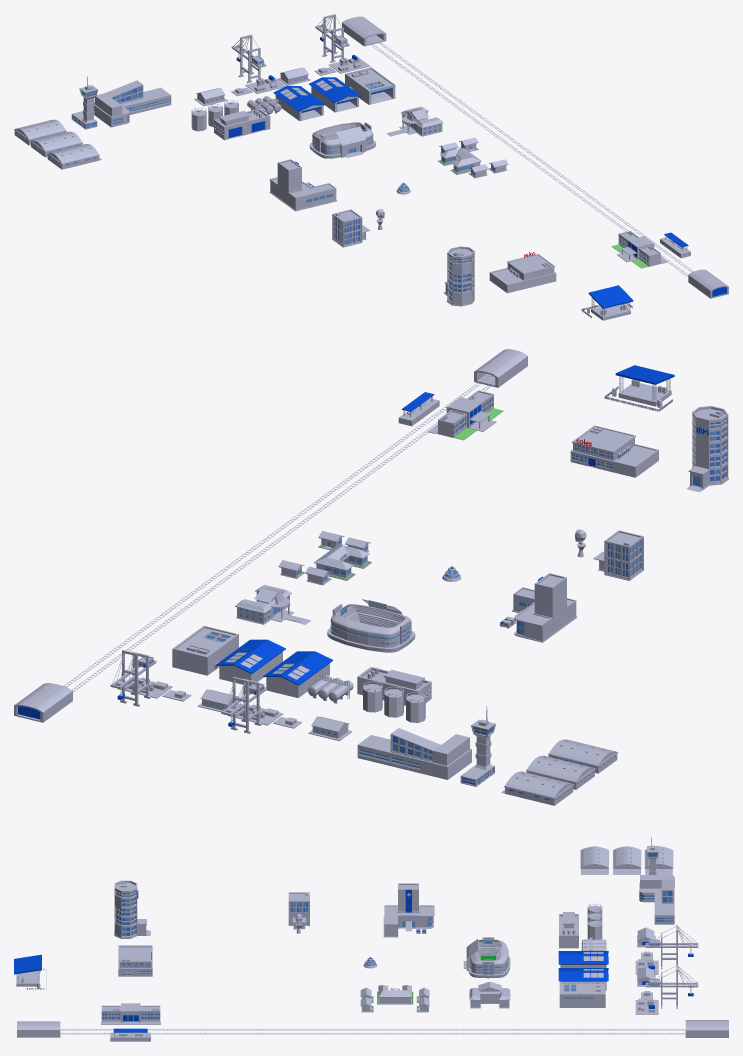
The model's file is MainBuildings.glb.
The picture shows the model from 3 angles, top to bottom: view 1: azimuth 30°, elevation 25°; view 2: azimuth 150°, elevation 25°; view 3: azimuth 270°, elevation 25°; orthographic projection. The views are drawn at different scales.
Parts seen in each view (by area): view 1: Airport, Factory.001, hospital.003, Stadion, Coles, harbour.004, harbour, Railway Station, IBM.002, NDIS, warehouse.2, warehouse.003 (+11 smaller); view 2: Airport, Factory.001, Stadion, hospital.003, Coles, IBM.002, Railway Station, harbour.004, NDIS, harbour, warehouse.2, Office.015 (+11 smaller); view 3: hospital.003, Railway Station, Airport, Stadion, Factory.001, IBM.002, harbour, harbour.004, NDIS, warehouse.2, Railway Track.001, Railway Track.002 (+11 smaller).
Boxes of the visible parts, x1=… form: Airport: x1=71, y1=76, x2=171, y2=129; Factory.001: x1=191, y1=96, x2=281, y2=140; hospital.003: x1=269, y1=159, x2=336, y2=211; Stadion: x1=309, y1=122, x2=375, y2=158; Coles: x1=489, y1=252, x2=556, y2=293; harbour.004: x1=194, y1=34, x2=285, y2=106; harbour: x1=277, y1=14, x2=370, y2=85; Railway Station: x1=611, y1=231, x2=690, y2=268; IBM.002: x1=443, y1=246, x2=474, y2=306; NDIS: x1=438, y1=137, x2=508, y2=178; warehouse.2: x1=345, y1=67, x2=395, y2=104; warehouse.003: x1=273, y1=86, x2=325, y2=121; Airport: x1=357, y1=706, x2=495, y2=786; Factory.001: x1=308, y1=667, x2=431, y2=722; Stadion: x1=327, y1=599, x2=415, y2=652; hospital.003: x1=499, y1=573, x2=577, y2=642; Coles: x1=570, y1=425, x2=658, y2=477; IBM.002: x1=687, y1=406, x2=728, y2=492; Railway Station: x1=398, y1=390, x2=503, y2=440; harbour.004: x1=221, y1=677, x2=352, y2=740; NDIS: x1=278, y1=531, x2=371, y2=585; harbour: x1=110, y1=650, x2=241, y2=712; warehouse.2: x1=172, y1=625, x2=238, y2=675; Office.015: x1=575, y1=529, x2=643, y2=580; hospital.003: x1=383, y1=883, x2=434, y2=937; Railway Station: x1=101, y1=1003, x2=160, y2=1041; Airport: x1=639, y1=837, x2=674, y2=924; Stadion: x1=463, y1=937, x2=510, y2=978; Factory.001: x1=559, y1=903, x2=606, y2=950; IBM.002: x1=114, y1=880, x2=150, y2=938; harbour: x1=635, y1=964, x2=698, y2=1014; harbour.004: x1=635, y1=925, x2=698, y2=974; NDIS: x1=360, y1=985, x2=429, y2=1012; warehouse.2: x1=559, y1=982, x2=605, y2=1007; Railway Track.001: x1=60, y1=1032, x2=685, y2=1034; Railway Track.002: x1=60, y1=1029, x2=685, y2=1030.
Size of the model in its own units: 79.75 by 11.02 by 132.
